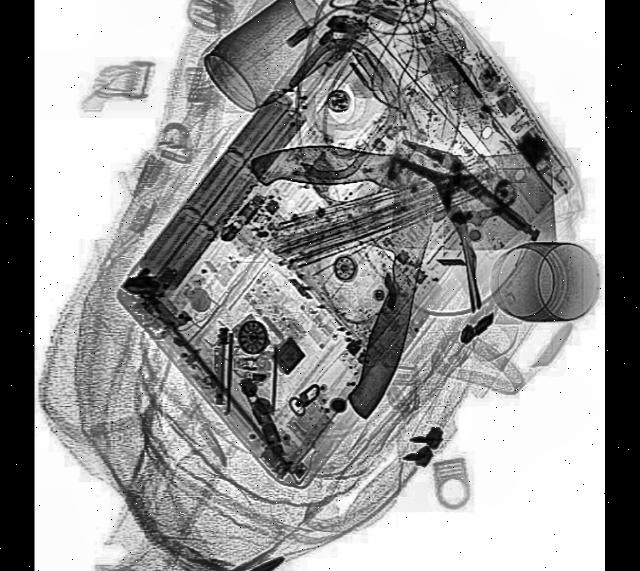Knife: (344, 50, 473, 424), (248, 137, 554, 256)
